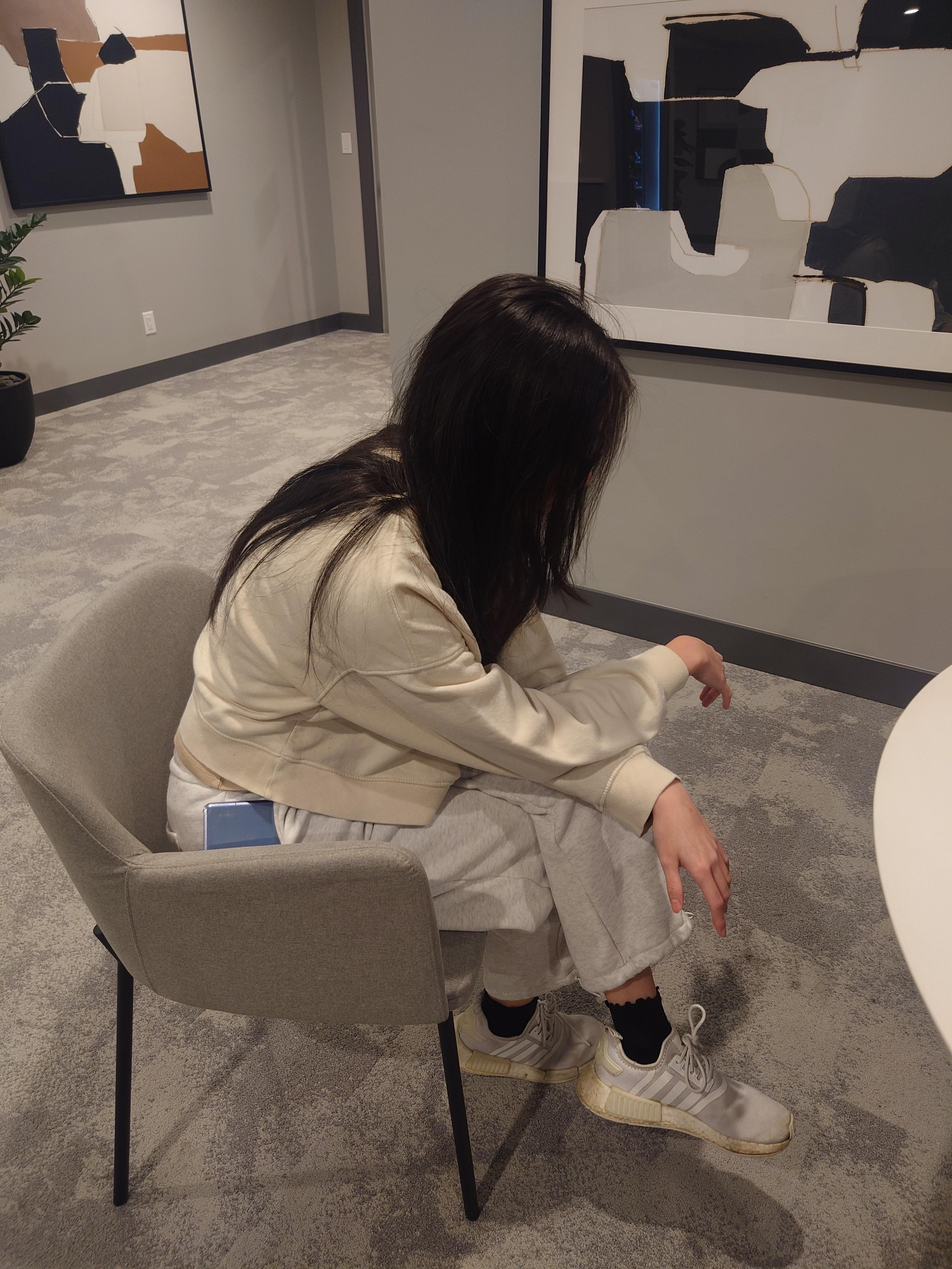BadPosture: (162, 273, 792, 1149)
